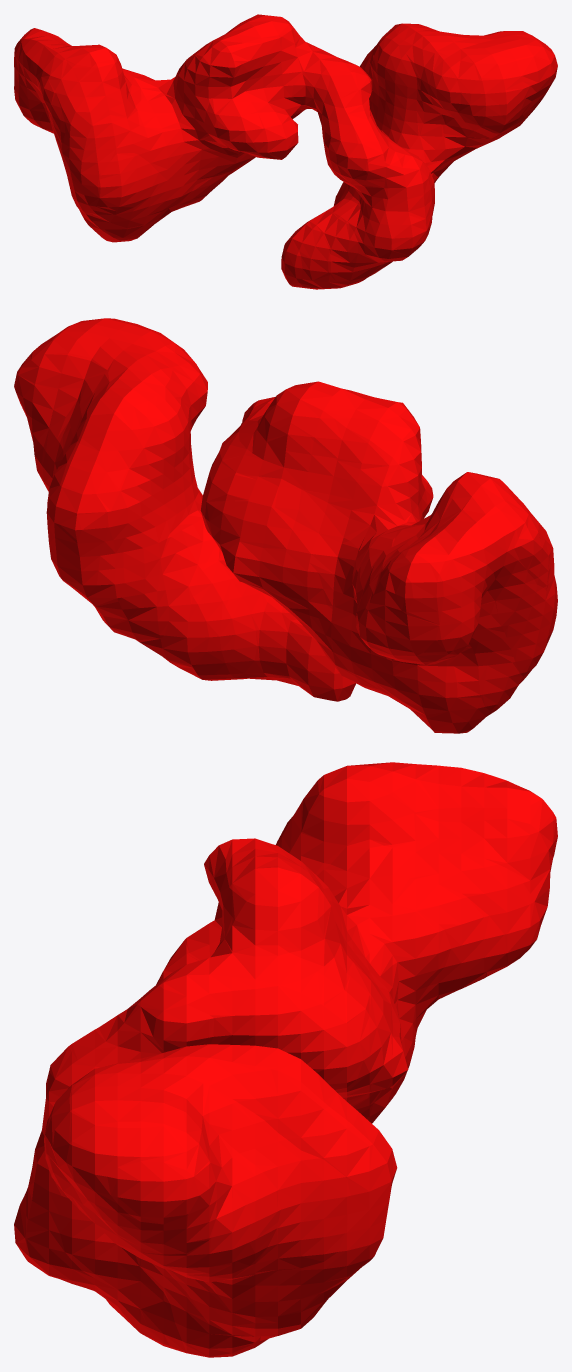
Rendered from High_mobility_group_protein_B2_coarse.dae.
3 views of the same model, one above another, from view 1: azimuth 30°, elevation 25°; view 2: azimuth 150°, elevation 25°; view 3: azimuth 270°, elevation 25° (orthographic). The views are drawn at different scales.
Visible parts, largest first — view 1: High_mobility_group_protein_B2; view 2: High_mobility_group_protein_B2; view 3: High_mobility_group_protein_B2.
Part boxes in pixels (x1,y1,x2,y2): High_mobility_group_protein_B2: (14, 14, 557, 289); High_mobility_group_protein_B2: (14, 318, 557, 733); High_mobility_group_protein_B2: (14, 762, 557, 1357).
Size of the model in its own units: 83.62 by 45.9 by 53.47.
